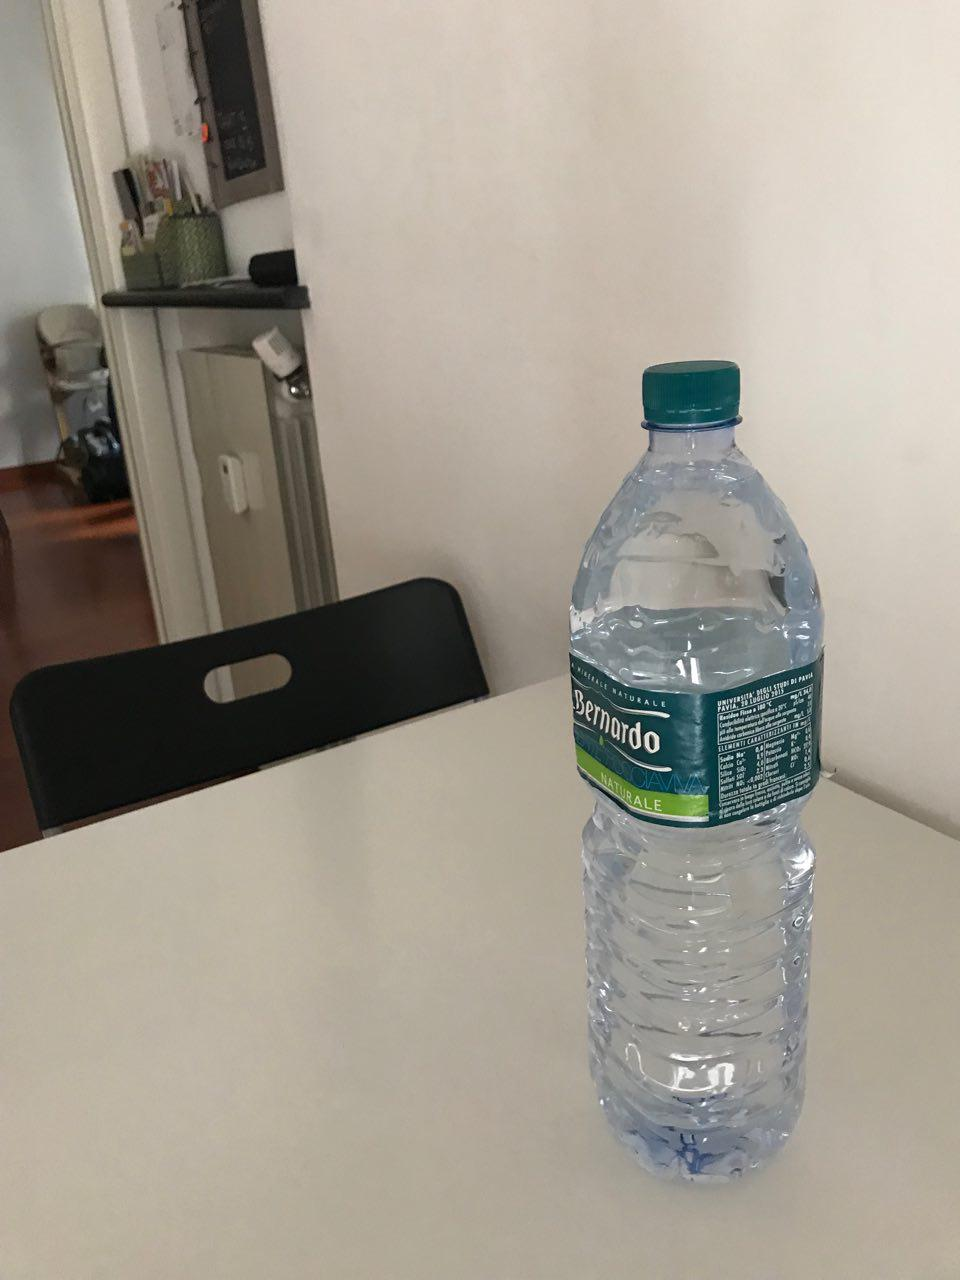san_bernardo: (566, 361, 827, 1188)
